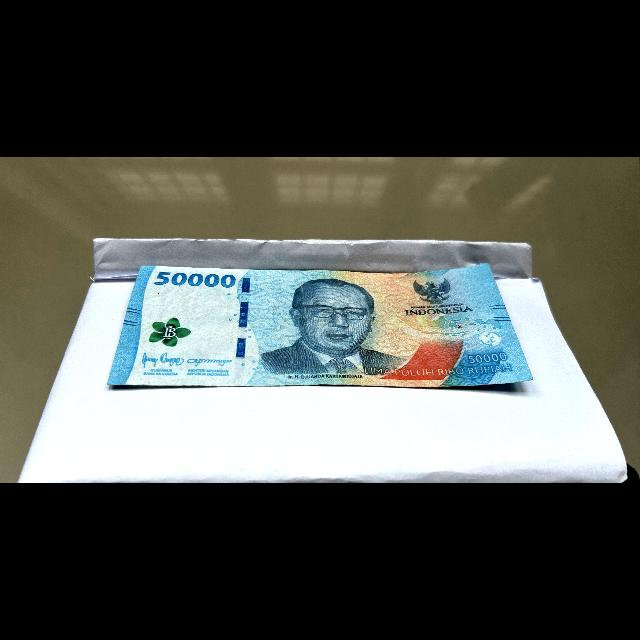Palsu-50k: (102, 262, 538, 389)
Tinta-Palsu-50k: (144, 316, 196, 349)
